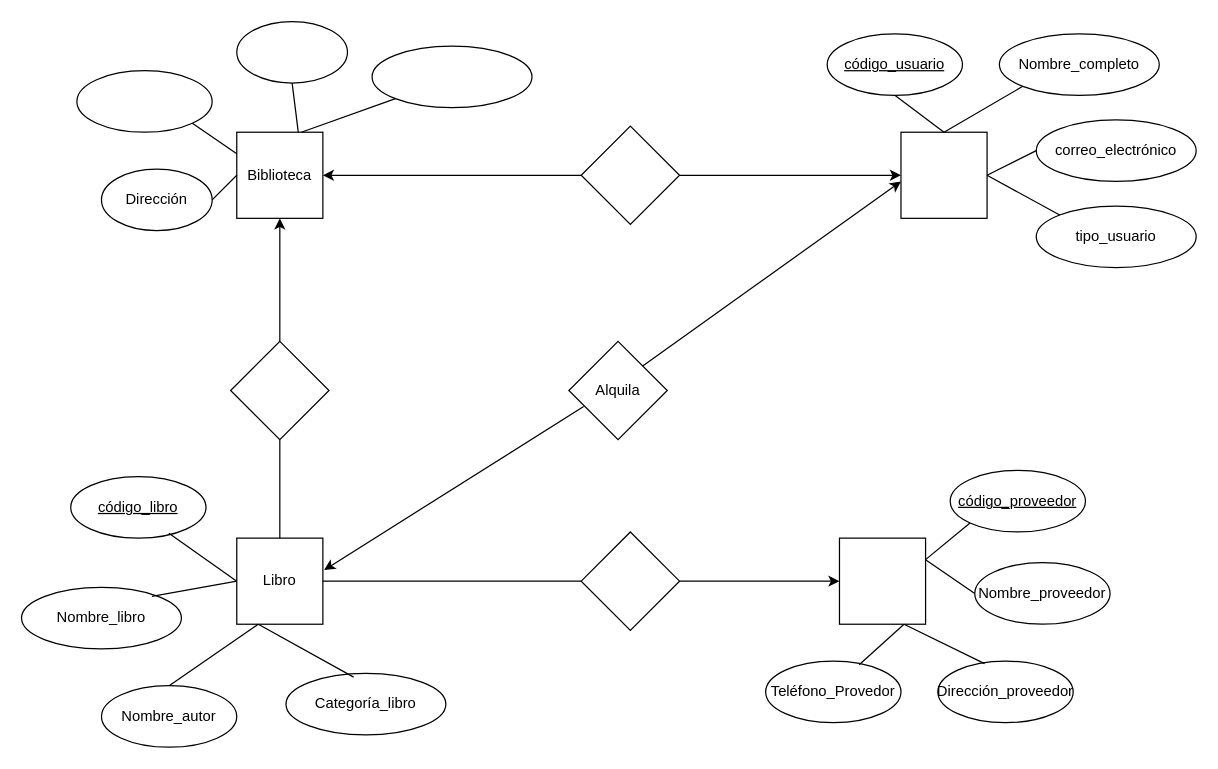
Image size: 1218x769. Some labels were removed from this diagram. Here are the shapes that lost their labels. From the top down, the box of each, then its label:
(236, 20, 347, 83): Facultad
(371, 45, 532, 108): Nombre_biblioteca
(76, 69, 212, 132): código_biblioteca
(580, 125, 680, 224): Encargado
(900, 131, 987, 218): Usuario
(229, 340, 329, 440): Tiene
(580, 531, 680, 630): Provee
(838, 537, 926, 624): Proveedor
